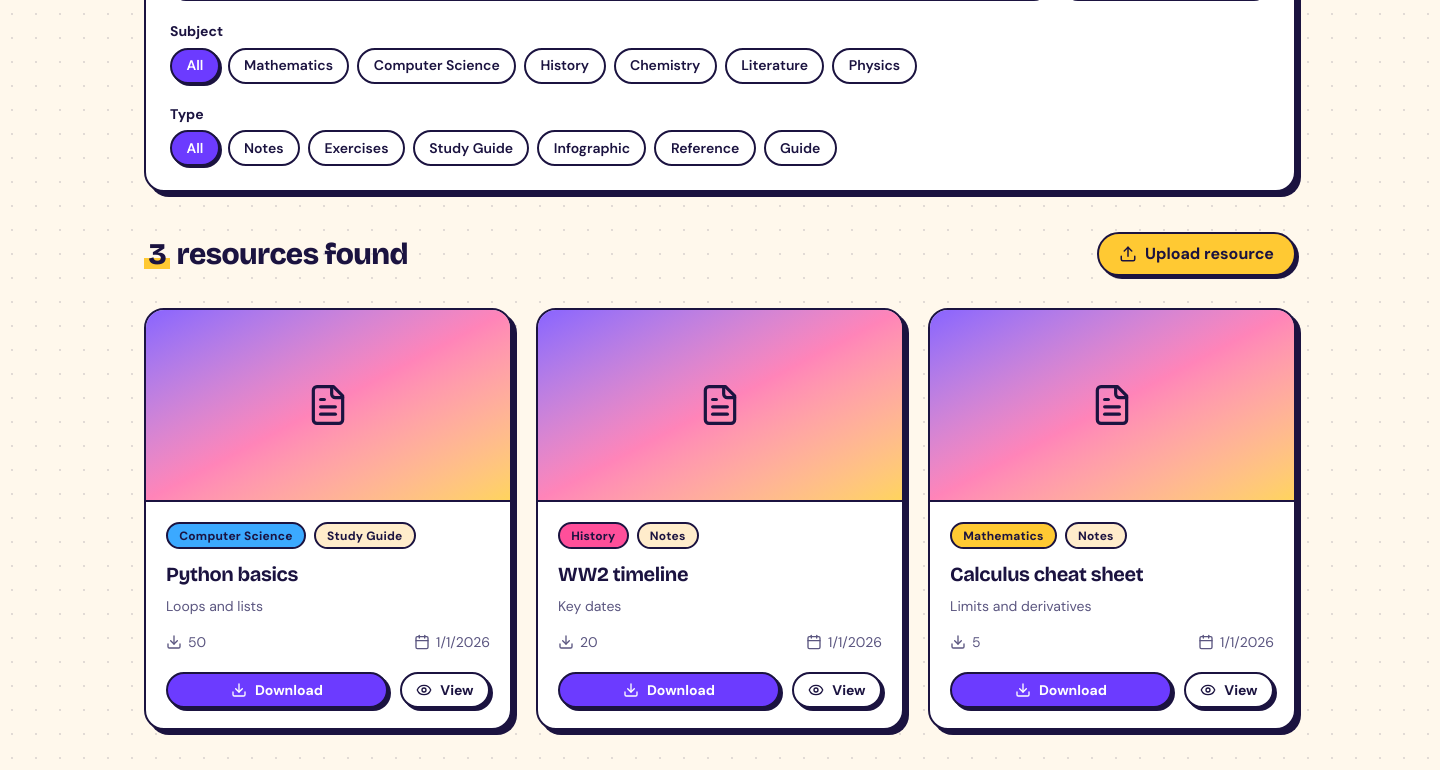
Resources page › counts a download and starts it
This screenshot has width=1440, height=770.
(page scrolled)
Check: the heading "Python basics" is shown, box [166,562,298,586]
Note: WW2 timeline is second in the list and has a file
Click the button "Download" below "Key dates" at {"x": 669, "y": 690}, box [558,672,780,708]
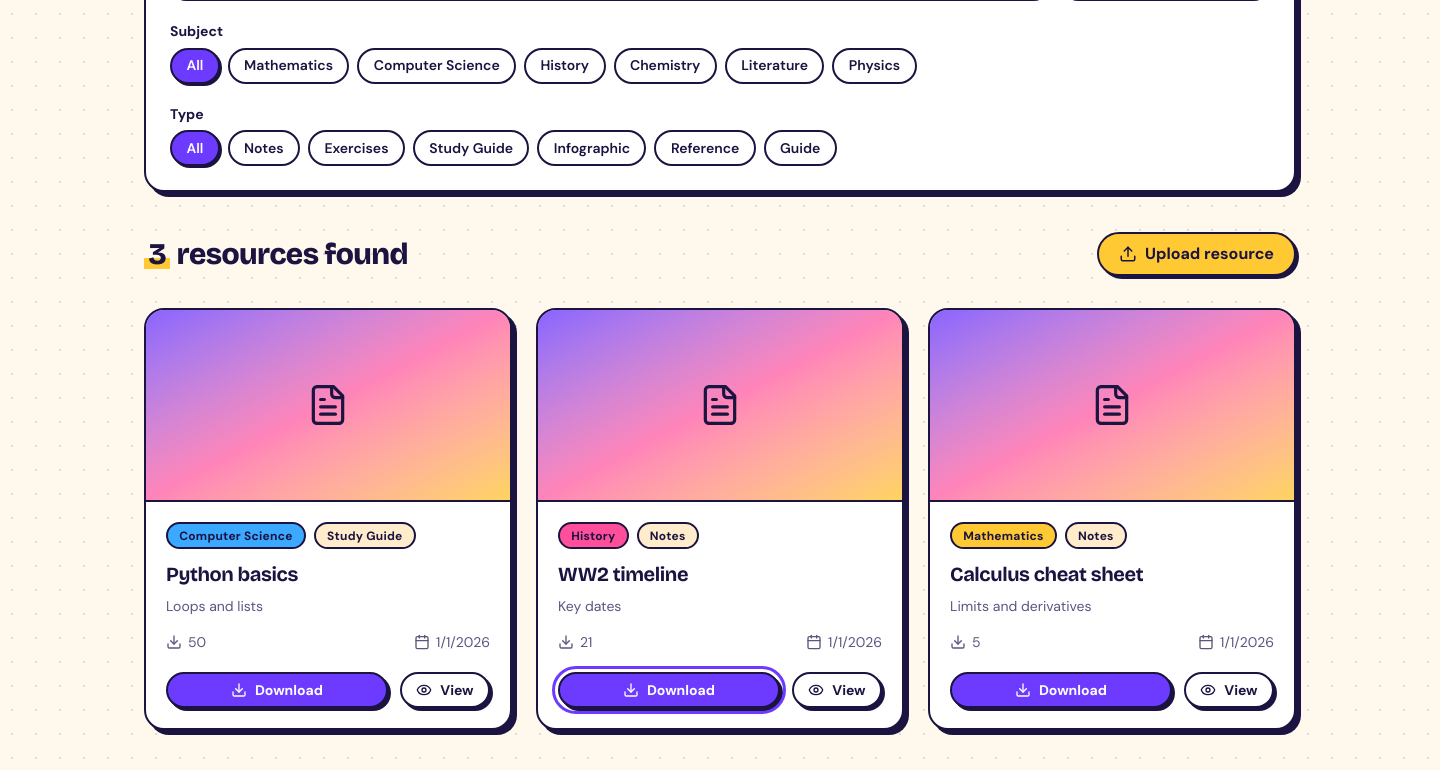
Check: the text "21" is shown, box [558,632,592,652]
